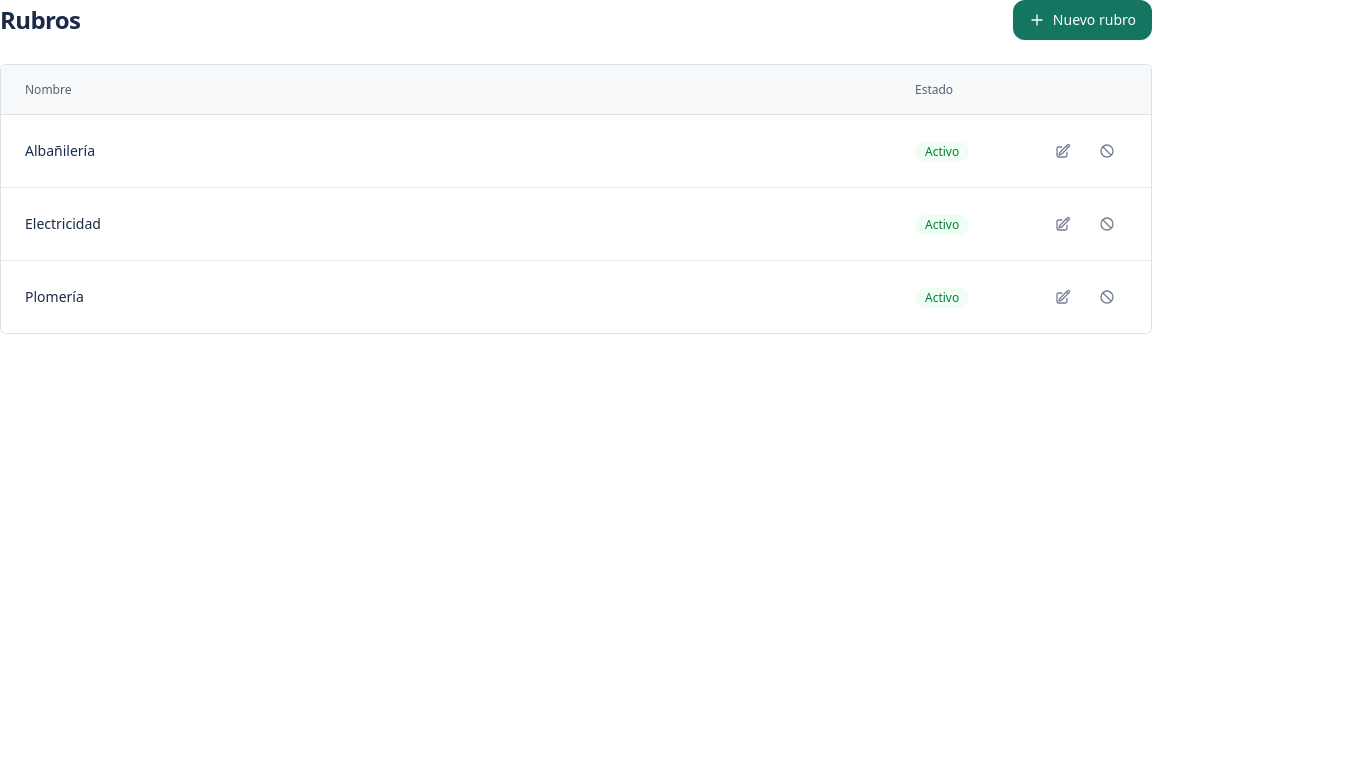
Test: CategoriesPage › opens create modal when clicking Nuevo rubro button
Step 1. Click the button "Nuevo rubro" → x=1082, y=20, box [1013,0,1152,40]
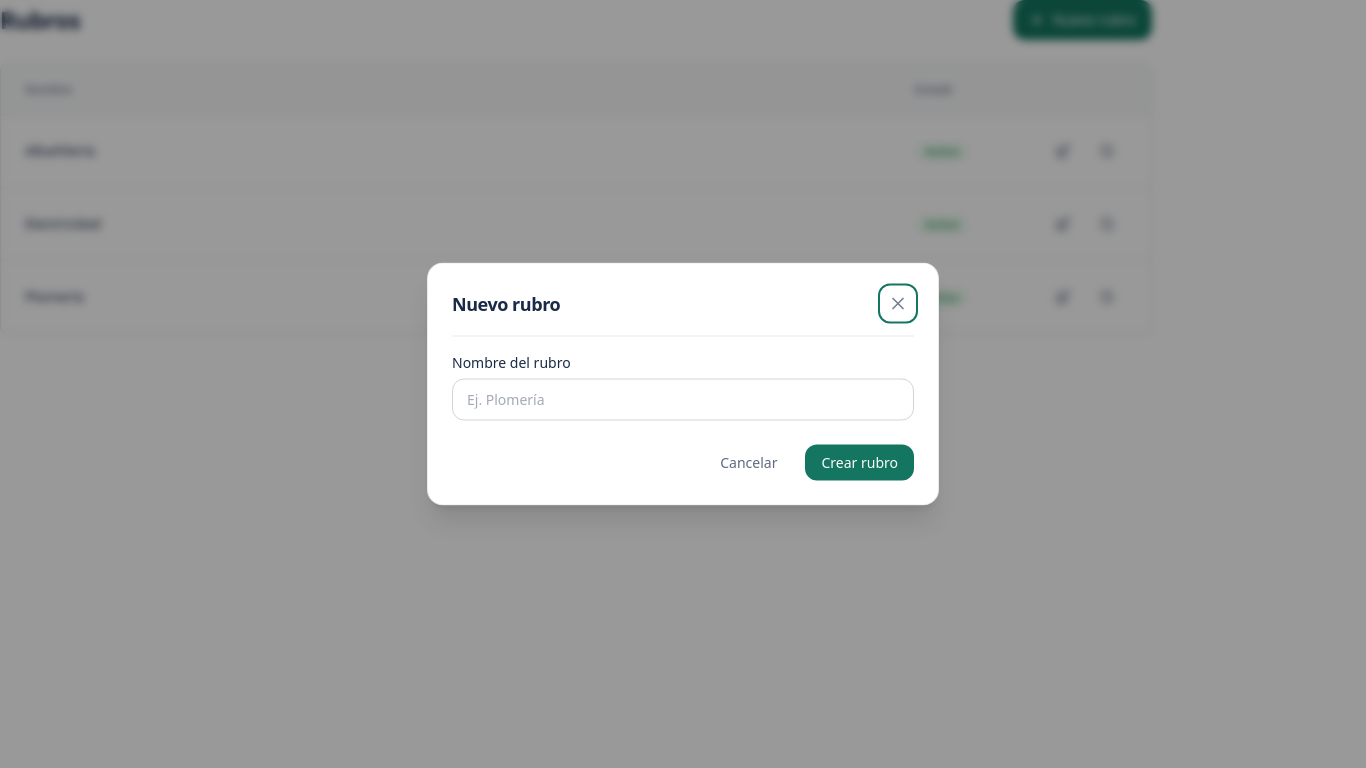
Now the dialog is shown, box [427,262,939,506]
Now the heading "Nuevo rubro" is shown, box [452,290,560,318]
